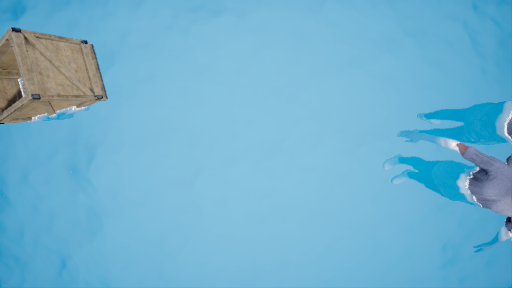person: (392, 127, 512, 244)
